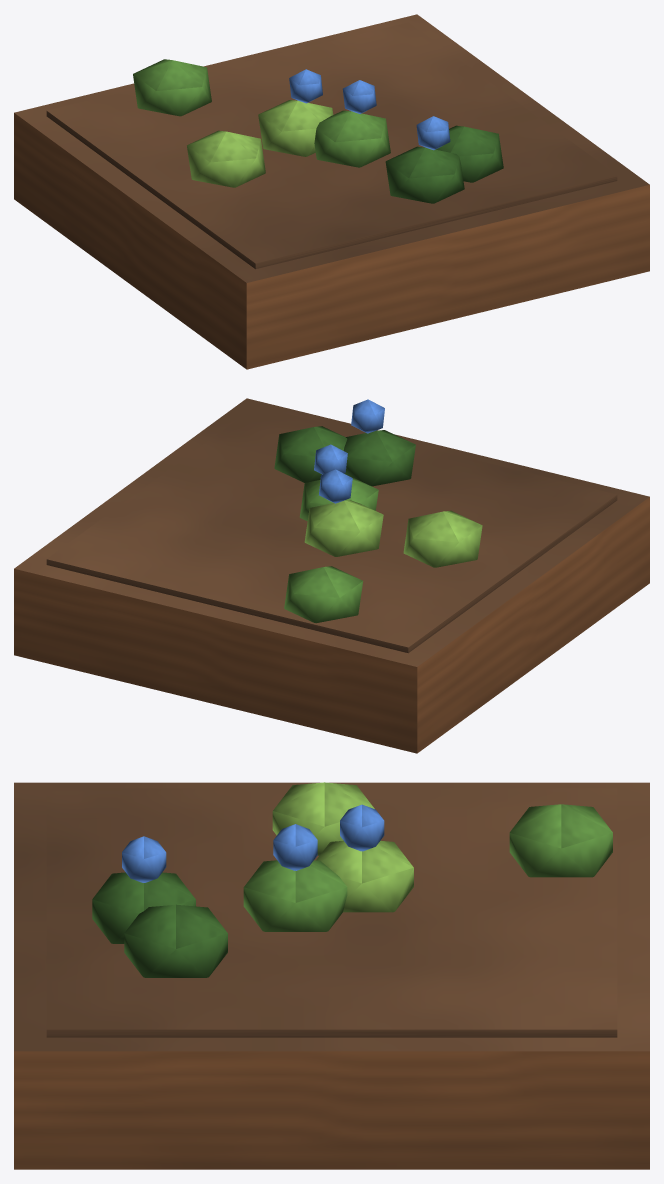
The model's file is flowerbed_03.glb.
3 renders of one model, top to bottom at view 1: azimuth 30°, elevation 25°; view 2: azimuth 150°, elevation 25°; view 3: azimuth 270°, elevation 25°, orthographic. The views are drawn at different scales.
Visible parts, largest first — view 1: flowerbed_03; view 2: flowerbed_03; view 3: flowerbed_03.
Part boxes in pixels (x1,y1,x2,y2): flowerbed_03: (14, 14, 649, 369); flowerbed_03: (14, 398, 649, 753); flowerbed_03: (14, 782, 649, 1169).
Size of the model in its own units: 1.46 by 0.56 by 1.46.
1 material, 1 textured.
